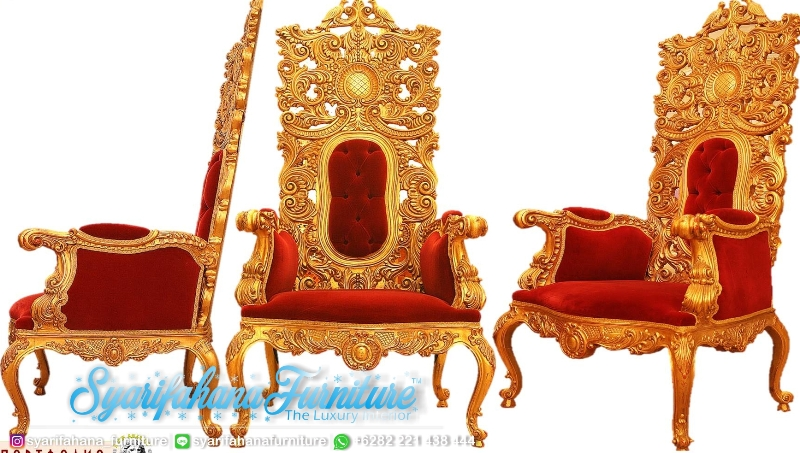Carving Chair: (514, 26, 795, 447), (266, 28, 488, 453), (18, 18, 226, 434)
